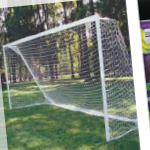goals: (2, 11, 137, 143)
